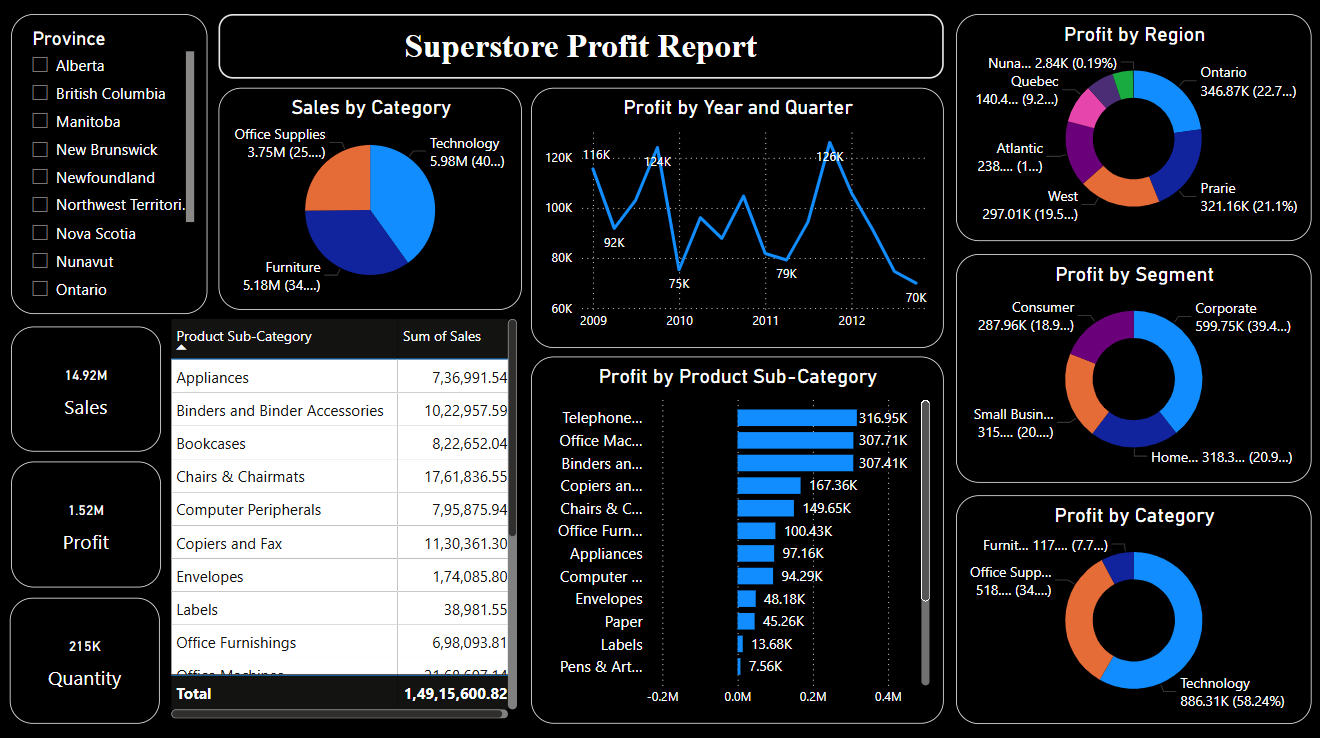

The page's visual inventory and layout, read from the dashboard file:
{"tool":"powerbi","page":{"name":"Page 1","canvas":[1280,720],"ordinal":0},"visuals":[{"type":"textbox","box":[214.7,19.3,699.7,62.7],"z":0},{"type":"donutChart","title":"Profit by Category","fields":{"Y":["Sum(Orders.Profit)"],"Category":["Orders.Product Category"]},"box":[926.3,483.3,343.4,220.7],"z":1000},{"type":"donutChart","title":"Profit by Segment","fields":{"Y":["Sum(Orders.Profit)"],"Category":["Orders.Customer Segment"]},"box":[926.3,251,343.4,220.7],"z":2000},{"type":"donutChart","title":"Profit by Region","fields":{"Y":["Sum(Orders.Profit)"],"Category":["Orders.Region"]},"box":[926.3,18.8,343.4,219.3],"z":3000},{"type":"barChart","title":"Profit by Product Sub-Category","fields":{"Category":["Orders.Product Sub-Category"],"Y":["Sum(Orders.Profit)"]},"box":[516.4,349.9,398.1,354.7],"z":4000},{"type":"lineChart","title":"Profit by Year and Quarter","fields":{"Category":["Orders.Order Date.Variation.Date Hierarchy.Year","Orders.Order Date.Variation.Date Hierarchy.Quarter","Orders.Order Date.Variation.Date Hierarchy.Month","Orders.Order Date.Variation.Date Hierarchy.Day"],"Y":["Sum(Orders.Profit)"]},"box":[516.4,90.5,398.1,250.9],"z":5000},{"type":"slicer","fields":{"Values":["Orders.Province"]},"box":[14.5,19.3,189.4,289.5],"z":6000},{"type":"tableEx","fields":{"Values":["Orders.Product Sub-Category","Sum(Orders.Sales)"]},"box":[163,308.8,344.8,395.3],"z":7000},{"type":"pieChart","title":"Sales by Category","fields":{"Y":["Sum(Orders.Sales)"],"Category":["Orders.Product Category"]},"box":[214.7,90.5,293.2,214.7],"z":8000},{"type":"card","fields":{"Values":["Sum(Orders.Sales)"]},"box":[14.4,321.1,145,121.1],"z":9000},{"type":"card","fields":{"Values":["Sum(Orders.Profit)"]},"box":[15,451.2,145,121.2],"z":10000},{"type":"card","fields":{"Values":["Sum(Orders.Order Quantity)"]},"box":[13.8,582.5,145,121.2],"z":11000}]}

Visuals, with their boxes in screenshot pixels (x1, y1, x2, y2), scaled from the page's 1280x720 canvas onto the 1320x738 screenshot:
textbox: (left=221, top=20, right=943, bottom=84)
"Profit by Category" donutChart: (left=955, top=495, right=1309, bottom=722)
"Profit by Segment" donutChart: (left=955, top=257, right=1309, bottom=483)
"Profit by Region" donutChart: (left=955, top=19, right=1309, bottom=244)
"Profit by Product Sub-Category" barChart: (left=533, top=359, right=943, bottom=722)
"Profit by Year and Quarter" lineChart: (left=533, top=93, right=943, bottom=350)
slicer - Orders.Province: (left=15, top=20, right=210, bottom=317)
tableEx - Orders.Product Sub-Category x Sum(Orders.Sales): (left=168, top=317, right=524, bottom=722)
"Sales by Category" pieChart: (left=221, top=93, right=524, bottom=313)
card - Sum(Orders.Sales): (left=15, top=329, right=164, bottom=453)
card - Sum(Orders.Profit): (left=15, top=462, right=165, bottom=587)
card - Sum(Orders.Order Quantity): (left=14, top=597, right=164, bottom=721)
